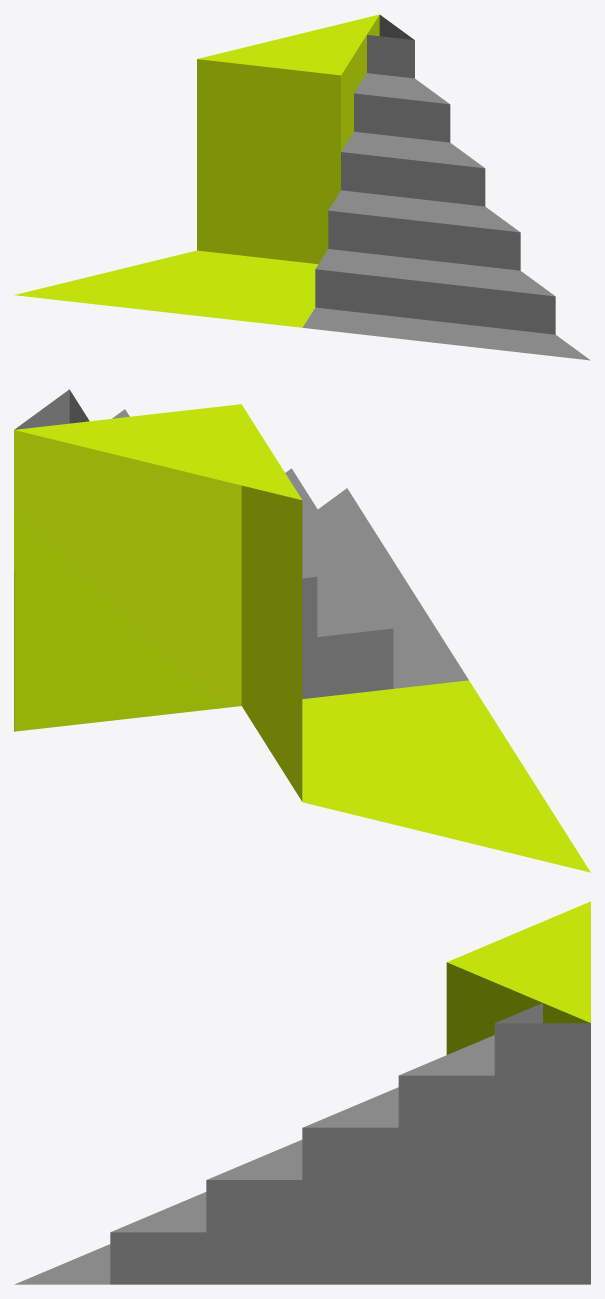
3 renders of one model, top to bottom at view 1: azimuth 30°, elevation 25°; view 2: azimuth 150°, elevation 25°; view 3: azimuth 270°, elevation 25°, orthographic. The views are drawn at different scales.
Visible parts, largest first — view 1: T_s3_0_0; view 2: T_s3_0_0; view 3: T_s3_0_0.
Boxes of the visible parts, <box> form: T_s3_0_0: <box>14,14,590,360</box>; T_s3_0_0: <box>14,389,590,872</box>; T_s3_0_0: <box>14,901,590,1284</box>.
Bounding box in the file's own units: 99.79 × 49.91 × 99.81.
